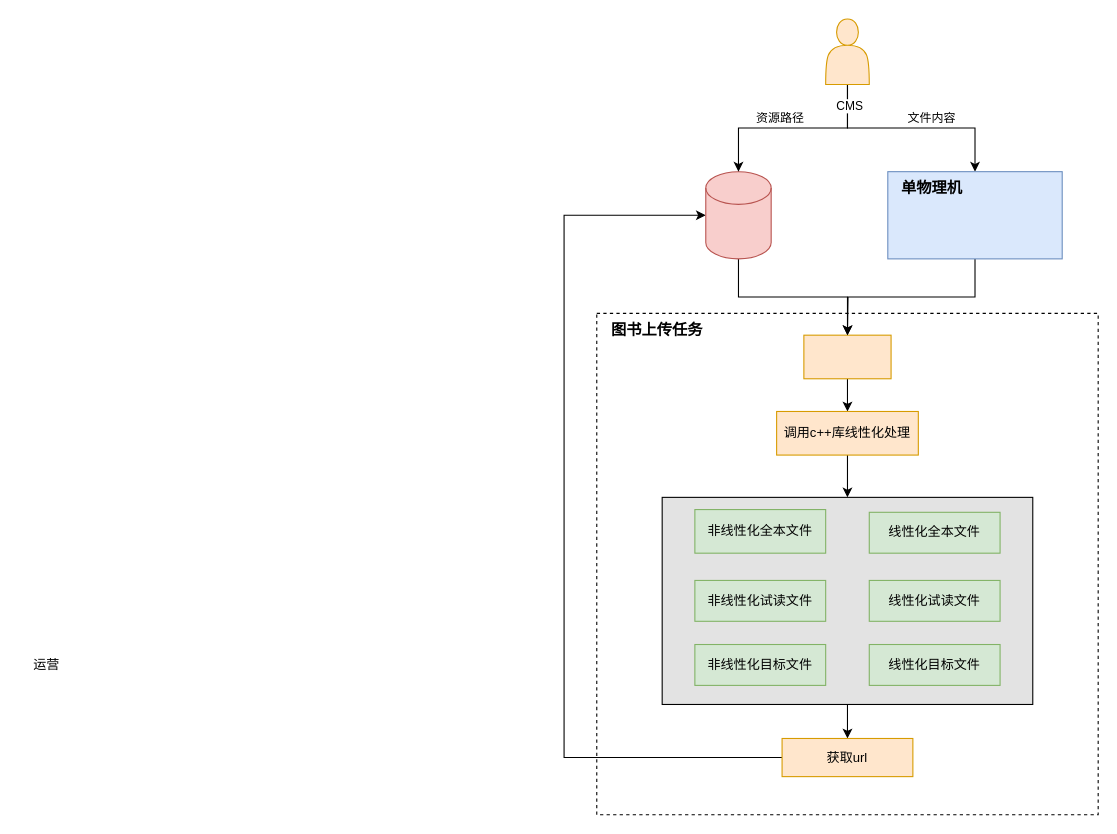
The diagram is 1117 pixels wide and 834 high, and some of its shapes have lost their labels. Each missing label, with the box of its shape:
Mysql: (705, 171, 771, 259)
存储资源文件: (887, 171, 1062, 259)
获取元数据: (803, 334, 891, 379)
